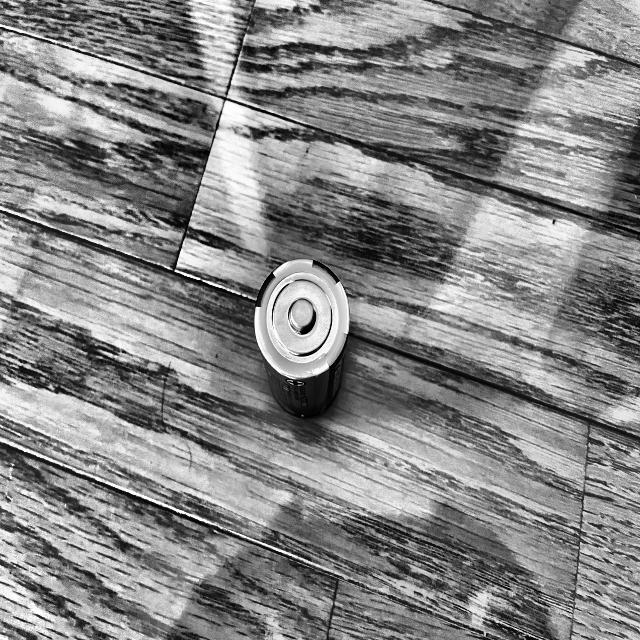drycell: (252, 256, 368, 420)
